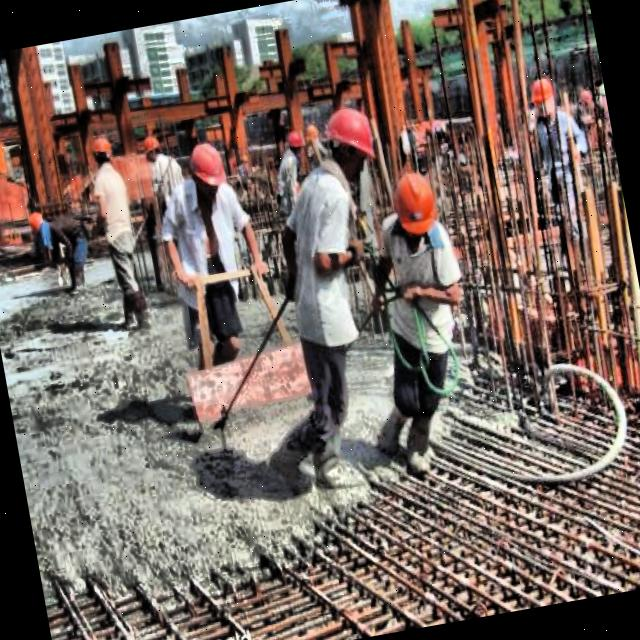helmet: (320, 103, 380, 185), (388, 165, 442, 238), (182, 134, 230, 201), (526, 74, 560, 120), (88, 128, 116, 172), (140, 131, 166, 168), (284, 125, 308, 162), (26, 206, 50, 238)
